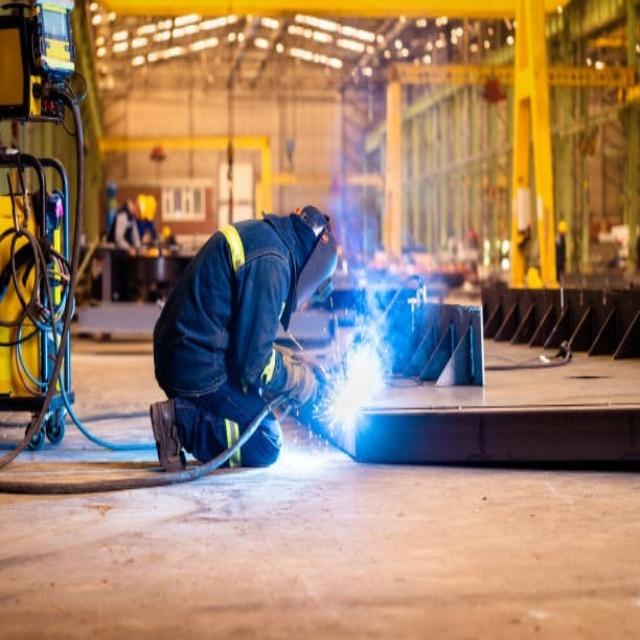Guantes: (277, 344, 322, 420)
